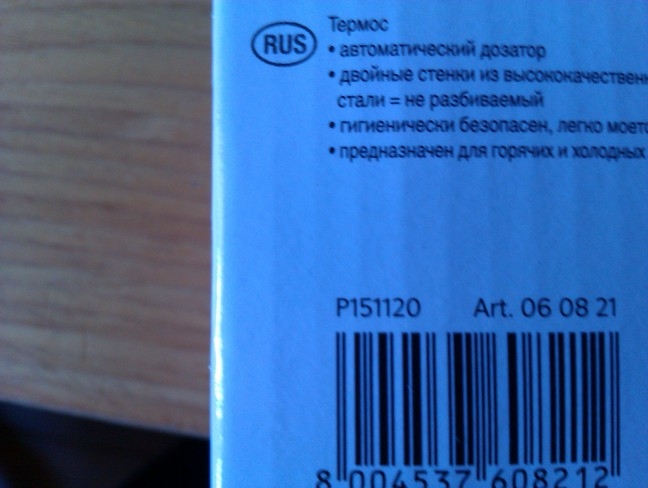barcode: (311, 327, 633, 467)
